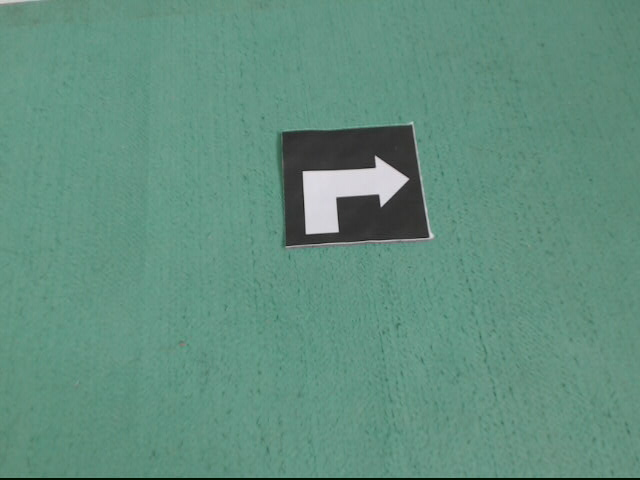right: (282, 124, 433, 248)
